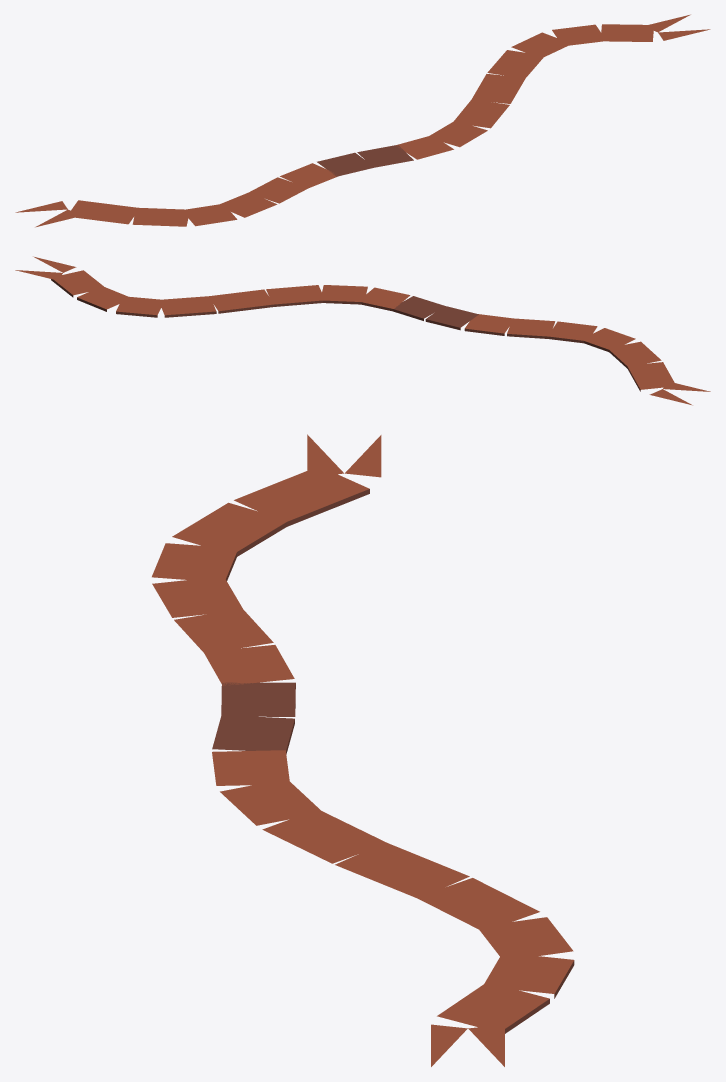
The model's file is desk-ribbon.glb.
3 renders of one model, top to bottom at view 1: azimuth 30°, elevation 25°; view 2: azimuth 150°, elevation 25°; view 3: azimuth 270°, elevation 25°, orthographic. The views are drawn at different scales.
Visible parts, largest first — view 1: desk-ribbon; view 2: desk-ribbon; view 3: desk-ribbon.
Part boxes in pixels (x1,y1,x2,y2): desk-ribbon: (15,14,710,227); desk-ribbon: (15,256,710,405); desk-ribbon: (152,434,574,1066).
Bounding box in the file's own units: 32.4 × 0.12 × 9.15.
1 material, 1 textured.
